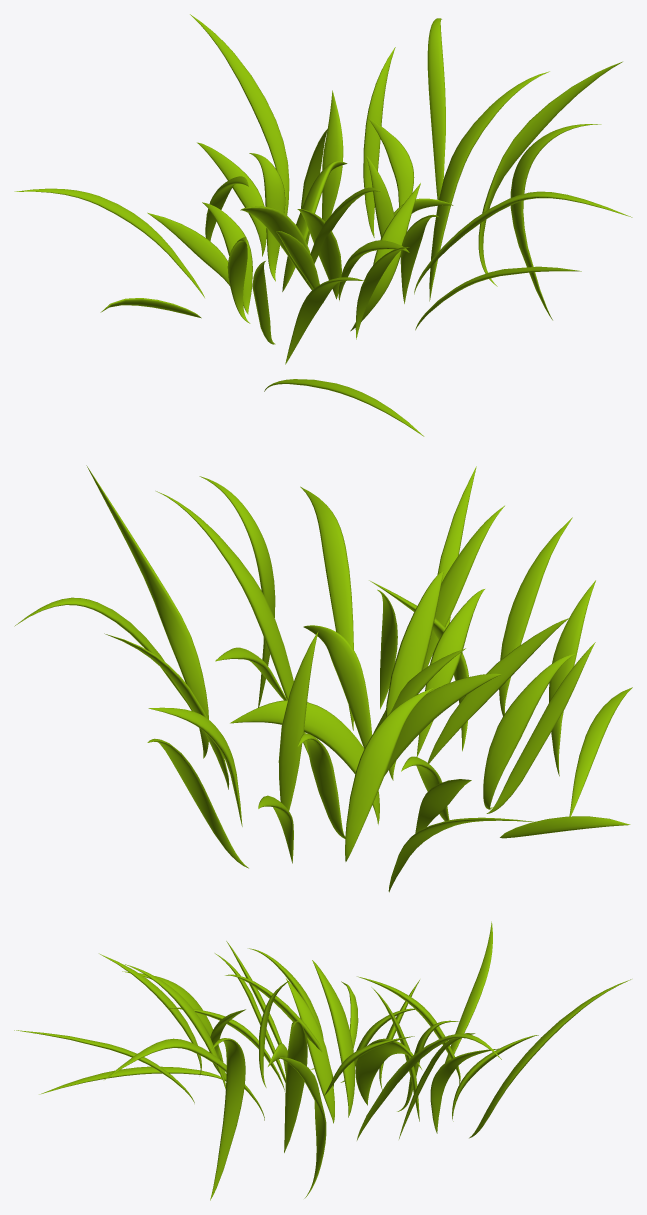
Rendered from grass.glb.
The picture shows the model from 3 angles, top to bottom: view 1: azimuth 30°, elevation 25°; view 2: azimuth 150°, elevation 25°; view 3: azimuth 270°, elevation 25°; orthographic projection. The views are drawn at different scales.
Visible parts, largest first — view 1: grass1; view 2: grass1; view 3: grass1.
Boxes of the visible parts, x1=… form: grass1: x1=14, y1=14, x2=632, y2=436; grass1: x1=14, y1=465, x2=632, y2=892; grass1: x1=14, y1=921, x2=631, y2=1200.
Bounding box in the file's own units: 1.05 × 0.448 × 1.22.
